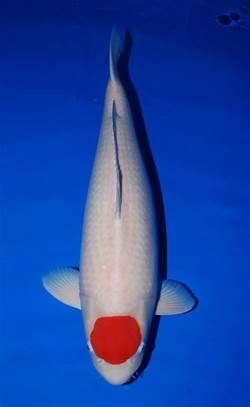sun: (40, 25, 198, 386)
